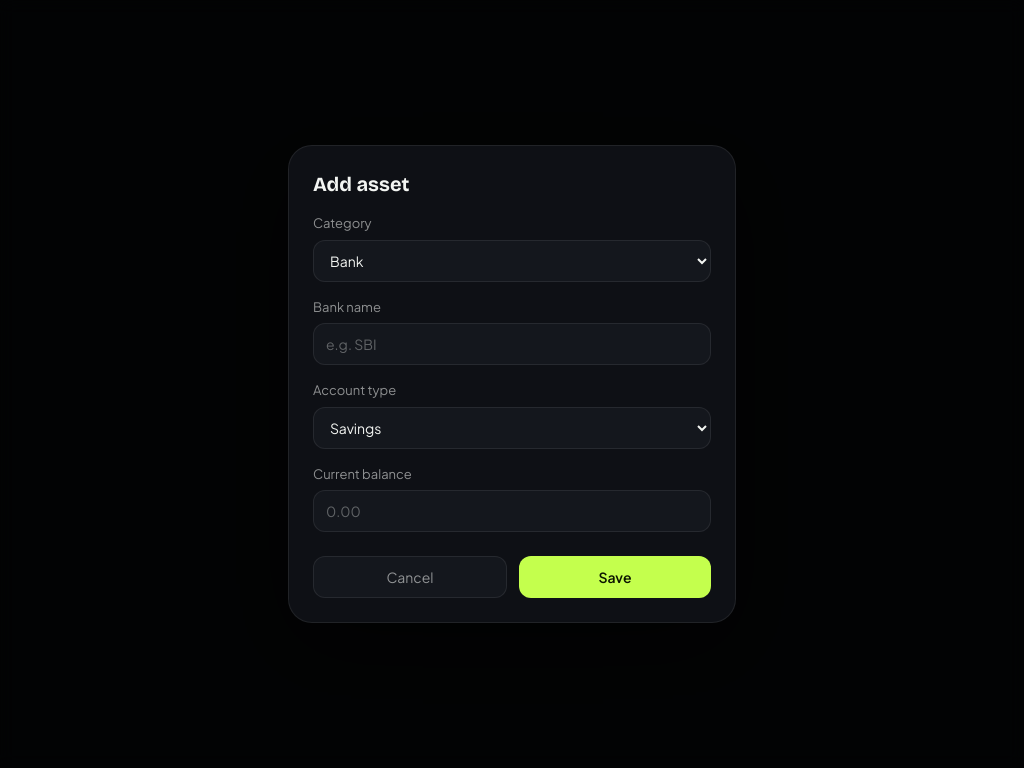
Test case: AssetForm › shows demat and shares fields for stock
Select "Stocks" in the dropdown showing "Bank": point(512, 260) [313,240,711,282]
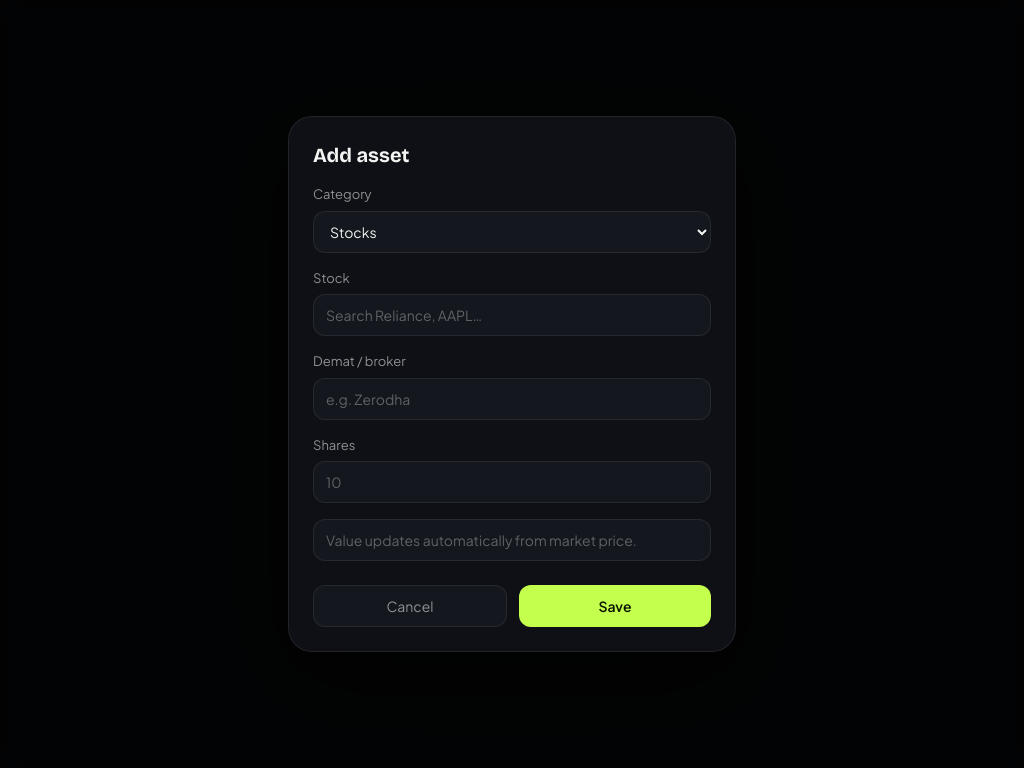
Expected: the text "Demat / broker" is shown, [313,353,406,369]
Expected: the text "Shares" is shown, [313,436,355,452]
